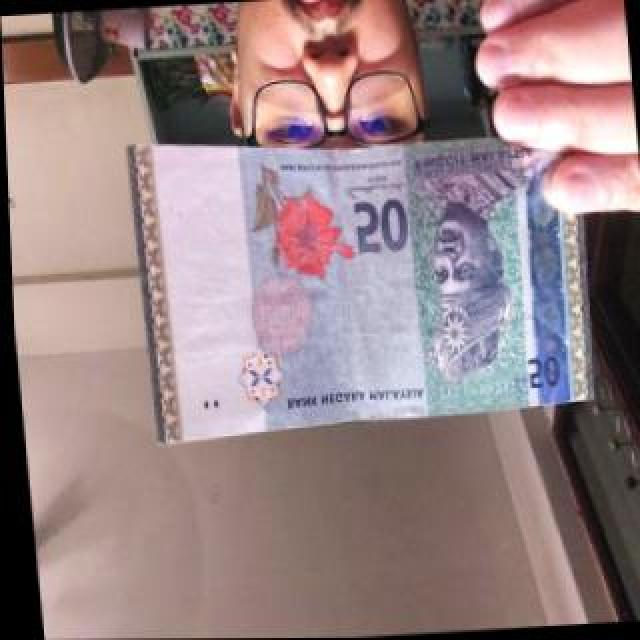50 Ringgit: (126, 118, 595, 439)
